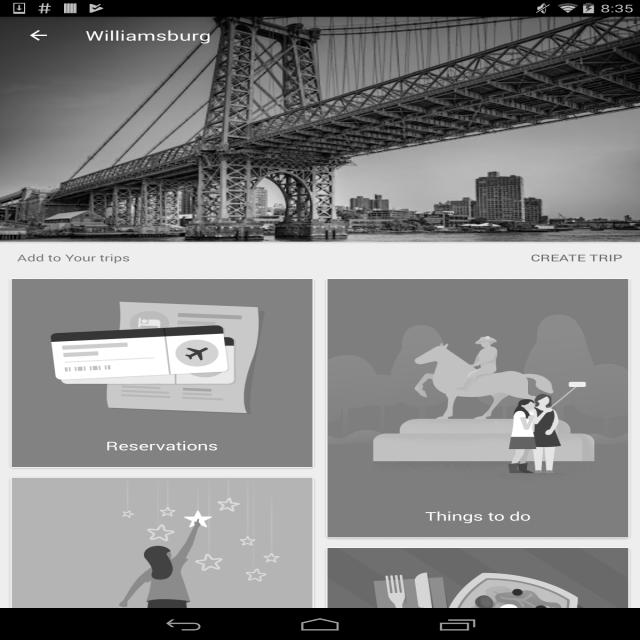Button: (513, 241, 640, 273)
ImageButton: (9, 17, 68, 54)
ImageView: (0, 17, 640, 242), (328, 279, 628, 537), (11, 279, 312, 467), (11, 477, 312, 640), (328, 548, 628, 640)
TextView: (84, 424, 240, 467), (0, 251, 514, 264), (404, 494, 552, 538), (86, 26, 212, 44)
